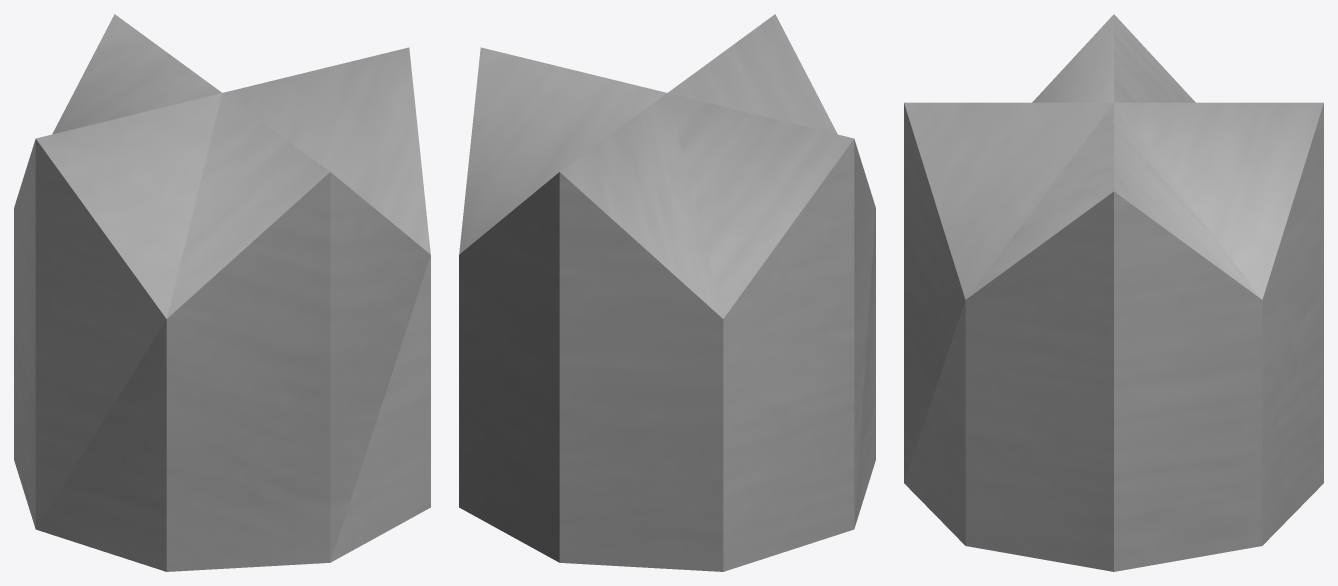
File: cable_node_side.obj
The picture shows the model from 3 angles, left to right: view 1: azimuth 30°, elevation 25°; view 2: azimuth 150°, elevation 25°; view 3: azimuth 270°, elevation 25°; orthographic projection. The views are drawn at different scales.
Visible parts, largest first — view 1: down_3; view 2: down_3; view 3: down_3.
Boxes of the visible parts, x1,y1,x2,y2 form: down_3: (14, 14, 430, 571); down_3: (459, 14, 875, 571); down_3: (904, 14, 1323, 571).
Bounding box in the file's own units: 0.5 × 0.5 × 0.5.
